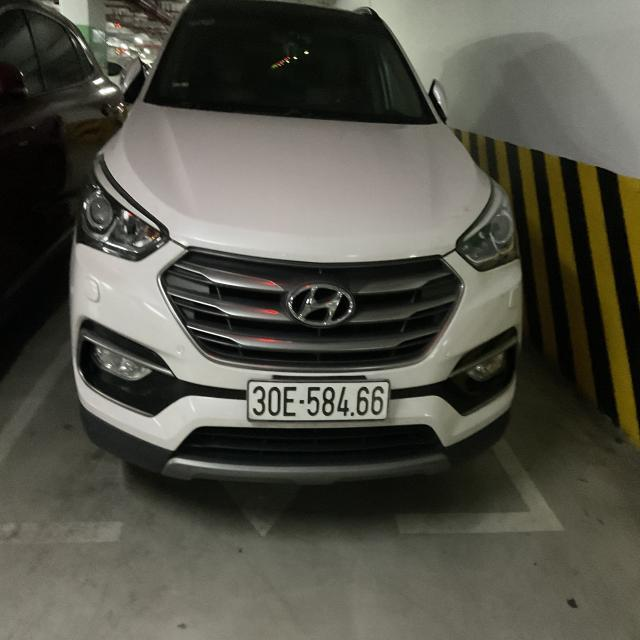license: (245, 378, 390, 421)
